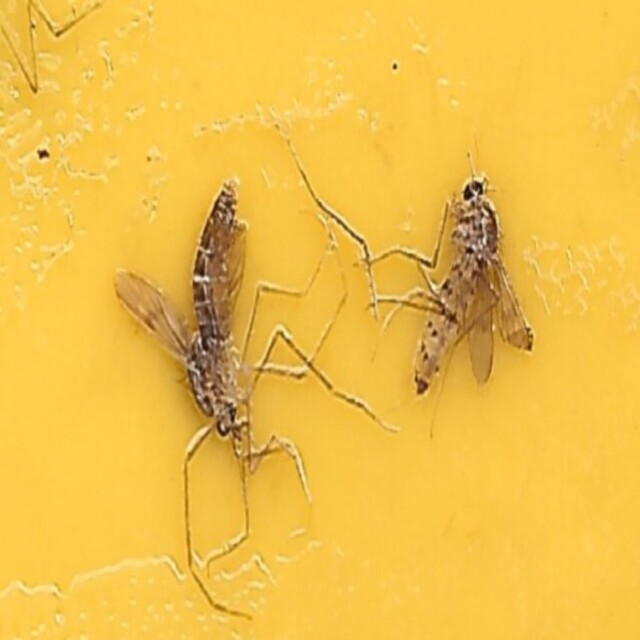Nematocera: (107, 177, 250, 463), (407, 181, 533, 402)
